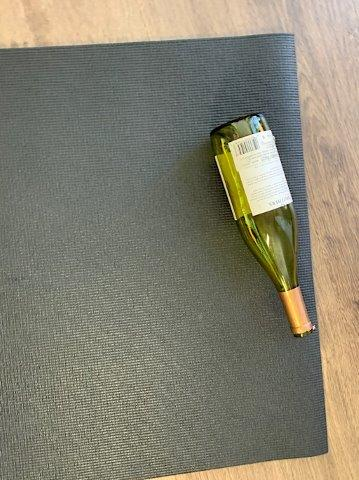botolkaca: (211, 112, 314, 339)
